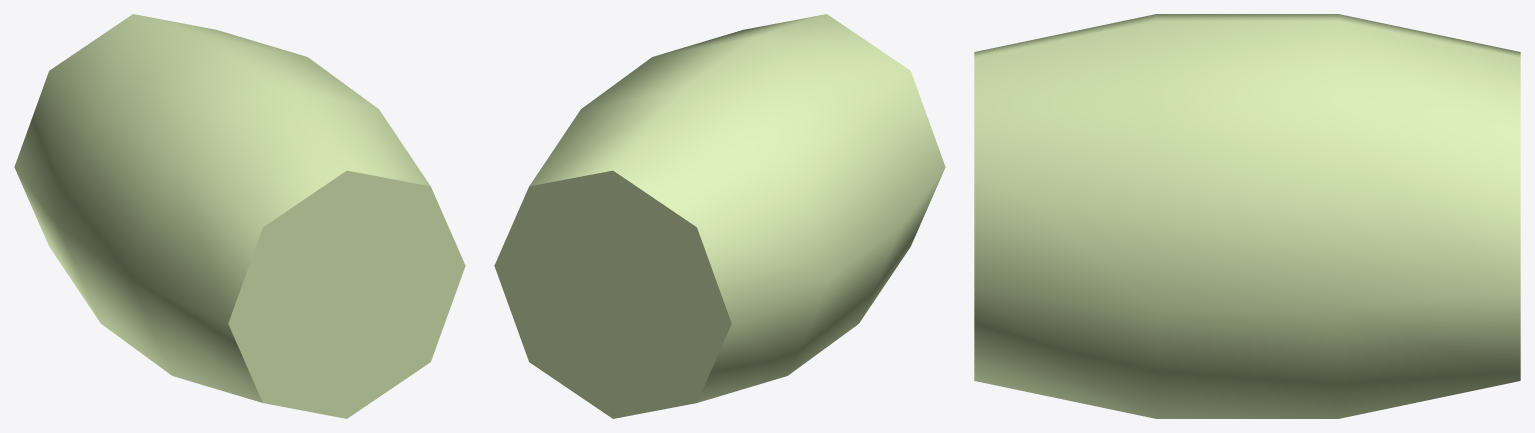
The picture shows the model from 3 angles, left to right: view 1: azimuth 30°, elevation 25°; view 2: azimuth 150°, elevation 25°; view 3: azimuth 270°, elevation 25°; orthographic projection. The views are drawn at different scales.
Visible parts, largest first — view 1: Object30; view 2: Object30; view 3: Object30.
Part boxes in pixels (<box>): Object30: <box>14,14,465,418</box>; Object30: <box>494,14,945,418</box>; Object30: <box>974,14,1520,418</box>.
Size of the model in its own units: 8127 by 8127 by 10298.
